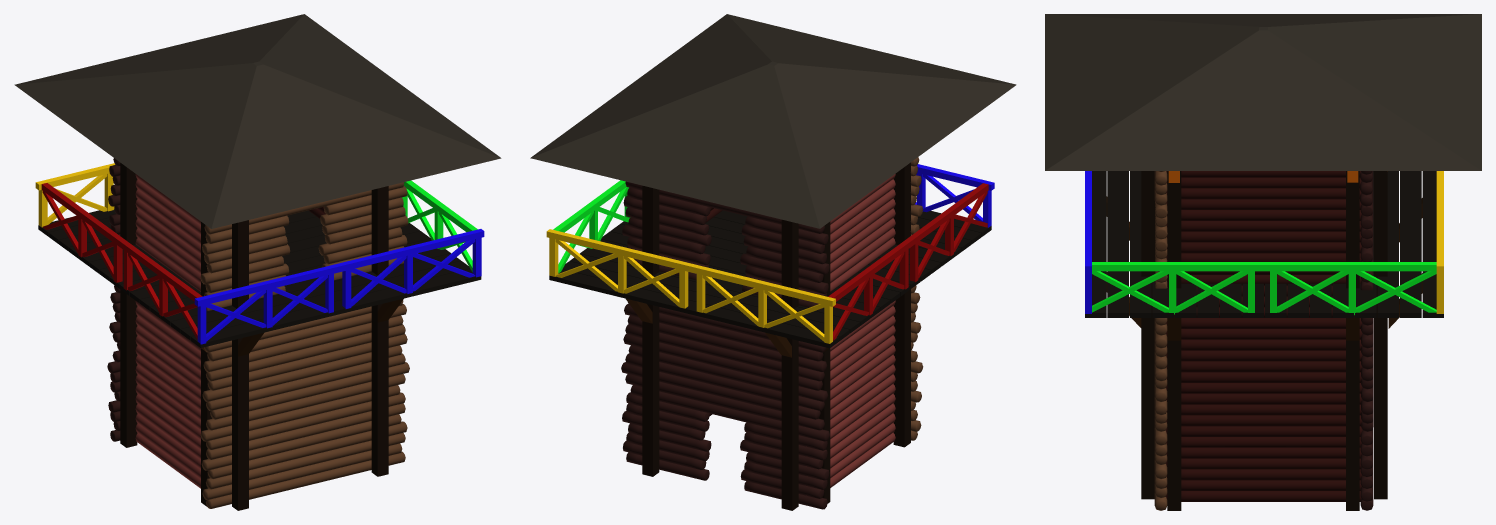
File: Atalaya.fbx
3 views of the same model, side by side, from view 1: azimuth 30°, elevation 25°; view 2: azimuth 150°, elevation 25°; view 3: azimuth 270°, elevation 25° (orthographic). The views are drawn at different scales.
Visible parts, largest first — view 1: Techo, Box003, Box002, Box009, Suelo001, Box015, Box052, Suelo003, Box206, Box202, Box196, Box199 (+57 smaller); view 2: Techo, Box005, Box004, Box008, Suelo016, Box037, Box052, Suelo014, Box302, Box298, Box299, Box301 (+64 smaller); view 3: Techo, Box005, Box003, Box006, Box007, Box065, Suelo002, Suelo015, Box414, Box418, Box420, Box415 (+46 smaller).
Part boxes in pixels (box(x1,y1,x2,y2)): Techo: box(14, 14, 501, 228); Box003: box(371, 186, 388, 476); Box002: box(232, 220, 248, 510); Box009: box(120, 163, 137, 447); Suelo001: box(191, 268, 481, 347); Box015: box(194, 229, 484, 306); Box052: box(41, 183, 202, 301); Suelo003: box(170, 253, 460, 333); Box206: box(202, 345, 402, 401); Box202: box(200, 385, 400, 441); Box196: box(202, 443, 402, 499); Box199: box(201, 414, 401, 470); Techo: box(530, 14, 1016, 228); Box005: box(642, 185, 659, 476); Box004: box(781, 219, 798, 510); Box008: box(893, 162, 910, 447); Suelo016: box(549, 269, 839, 348); Box037: box(546, 229, 835, 306); Box052: box(828, 183, 988, 301); Suelo014: box(570, 254, 859, 333); Box302: box(628, 345, 828, 401); Box298: box(630, 385, 829, 441); Box299: box(625, 374, 824, 430); Box301: box(625, 353, 824, 410); Techo: box(1045, 14, 1481, 170); Box005: box(1374, 171, 1387, 499); Box003: box(1141, 171, 1154, 499); Box006: box(1167, 171, 1181, 510); Box007: box(1346, 171, 1359, 510); Box065: box(1092, 262, 1436, 271); Suelo002: box(1107, 171, 1128, 317); Suelo015: box(1400, 171, 1421, 317); Box414: box(1166, 350, 1362, 361); Box418: box(1166, 393, 1361, 404); Box420: box(1166, 415, 1361, 426); Box415: box(1166, 361, 1361, 372).
Size of the model in its own units: 777 by 991 by 912.
